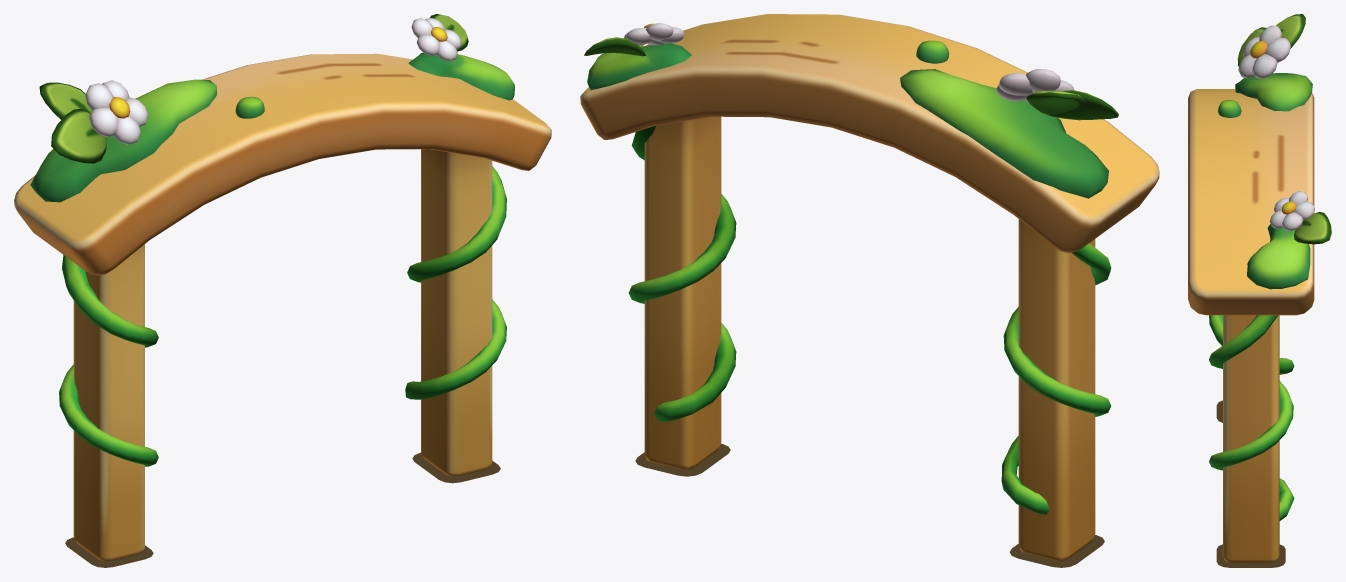
File: DoorFrame.fbx
3 views of the same model, side by side, from view 1: azimuth 30°, elevation 25°; view 2: azimuth 150°, elevation 25°; view 3: azimuth 270°, elevation 25° (orthographic). The views are drawn at different scales.
Visible parts, largest first — view 1: doorFrame, DF_SDW; view 2: doorFrame, DF_SDW; view 3: doorFrame, DF_SDW.
Boxes of the visible parts, x1,y1,x2,y2 form: doorFrame: (14,14,551,561); DF_SDW: (65,452,500,567); doorFrame: (580,14,1159,560); DF_SDW: (635,443,1104,567); doorFrame: (1188,14,1331,562); DF_SDW: (1216,400,1285,567).
Bounding box in the file's own units: 372 × 336 × 114.
Materials: 2 (1 with a texture image).
